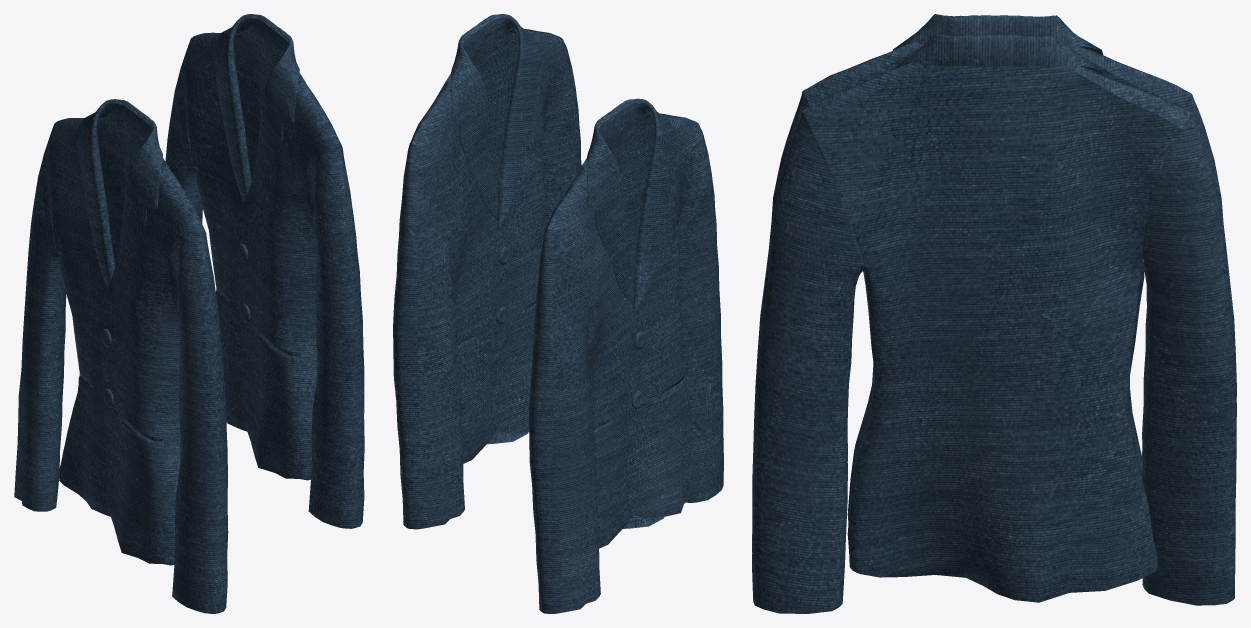
File: yifu10_xizhuang_02.fbx
3 views of the same model, side by side, from view 1: azimuth 30°, elevation 25°; view 2: azimuth 150°, elevation 25°; view 3: azimuth 270°, elevation 25° (orthographic). The views are drawn at different scales.
Visible parts, largest first — view 1: yifu10_xizhuang_02; view 2: yifu10_xizhuang_02; view 3: yifu10_xizhuang_02.
Part boxes in pixels (left/top/right/bottom): yifu10_xizhuang_02: left=14, top=14, right=364, bottom=613; yifu10_xizhuang_02: left=393, top=14, right=723, bottom=613; yifu10_xizhuang_02: left=752, top=14, right=1236, bottom=613.
Size of the model in its own units: 34.37 by 78.09 by 53.14.
